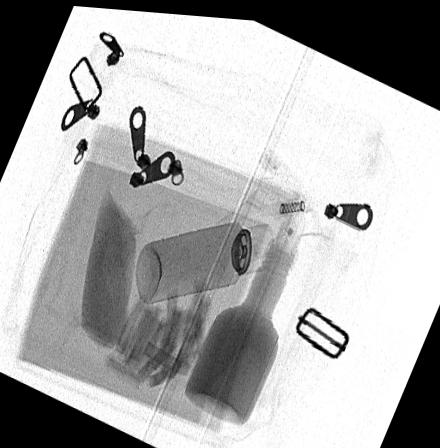Sprayer: (133, 219, 273, 301)
